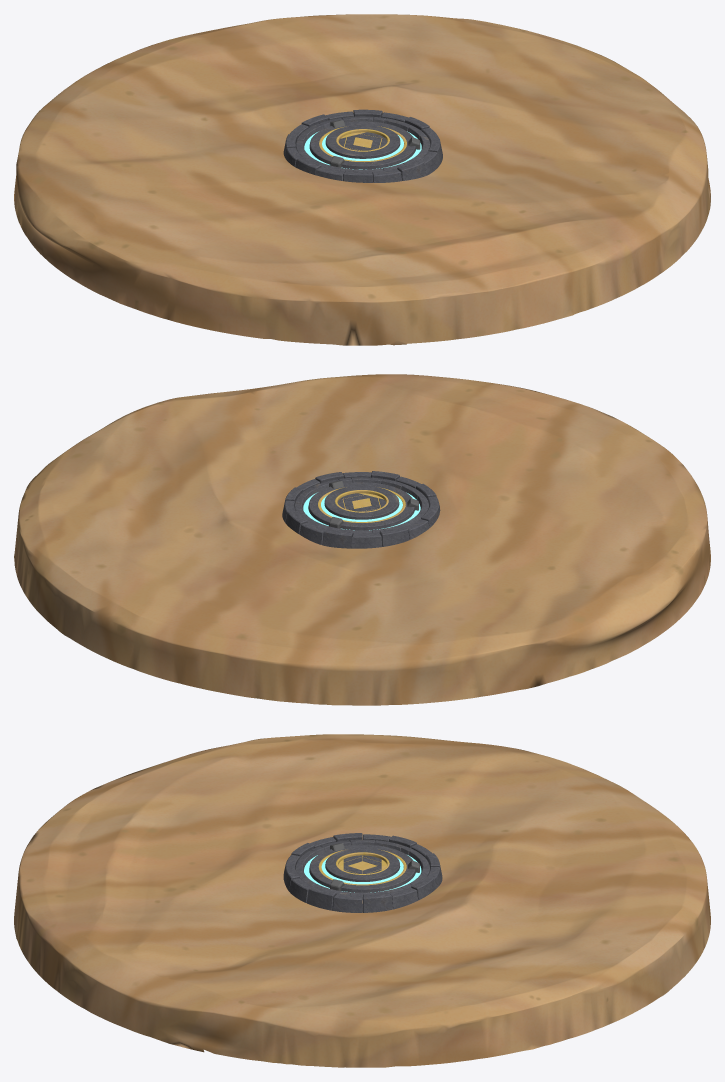
The model's file is V8_gestures_editor.fbx.
3 views of the same model, one above another, from view 1: azimuth 30°, elevation 25°; view 2: azimuth 150°, elevation 25°; view 3: azimuth 270°, elevation 25° (orthographic).
Visible parts, largest first — view 1: Cylinder_042, Cylinder.053, Cylinder.052, Cylinder.049, Cylinder.047, Cylinder.048, Cylinder.051, Cube.020; view 2: Cylinder_042, Cylinder.053, Cylinder.052, Cylinder.045, Cylinder.046, Cylinder.051, Cylinder.044, Cube.020; view 3: Cylinder_042, Cylinder.053, Cylinder.052, Cylinder.043, Cylinder.050, Cylinder.049, Cylinder.051, Cylinder.044, Cube.020.
Boxes of the visible parts, x1,y1,x2,y2 form: Cylinder_042: (14,14,710,345); Cylinder.053: (309,121,416,169); Cylinder.052: (295,116,430,172); Cylinder.049: (397,138,442,180); Cylinder.047: (295,157,372,182); Cylinder.048: (315,166,401,182); Cylinder.051: (297,117,428,171); Cube.020: (338,132,387,150); Cylinder_042: (14,374,710,705); Cylinder.053: (308,482,414,530); Cylinder.052: (294,477,428,534); Cylinder.045: (322,526,409,548); Cylinder.046: (351,519,429,548); Cylinder.051: (296,477,427,532); Cylinder.044: (282,500,326,544); Cube.020: (337,493,386,511); Cylinder_042: (14,734,710,1067); Cylinder.053: (309,844,415,892); Cylinder.052: (297,840,428,894); Cylinder.043: (362,877,435,912); Cylinder.050: (289,878,362,912); Cylinder.049: (283,865,336,910); Cylinder.051: (295,839,429,899); Cylinder.044: (389,867,442,909); Cube.020: (343,855,381,873).
Size of what is drawn, in the model's own units: 7099 by 659 by 7026.
